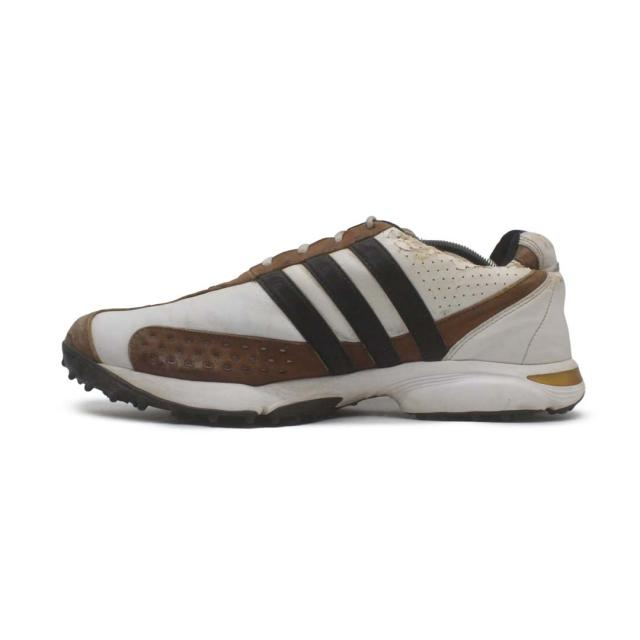heel: (502, 229, 573, 362)
midsole: (68, 354, 587, 432)
uppersole: (60, 222, 528, 379)
